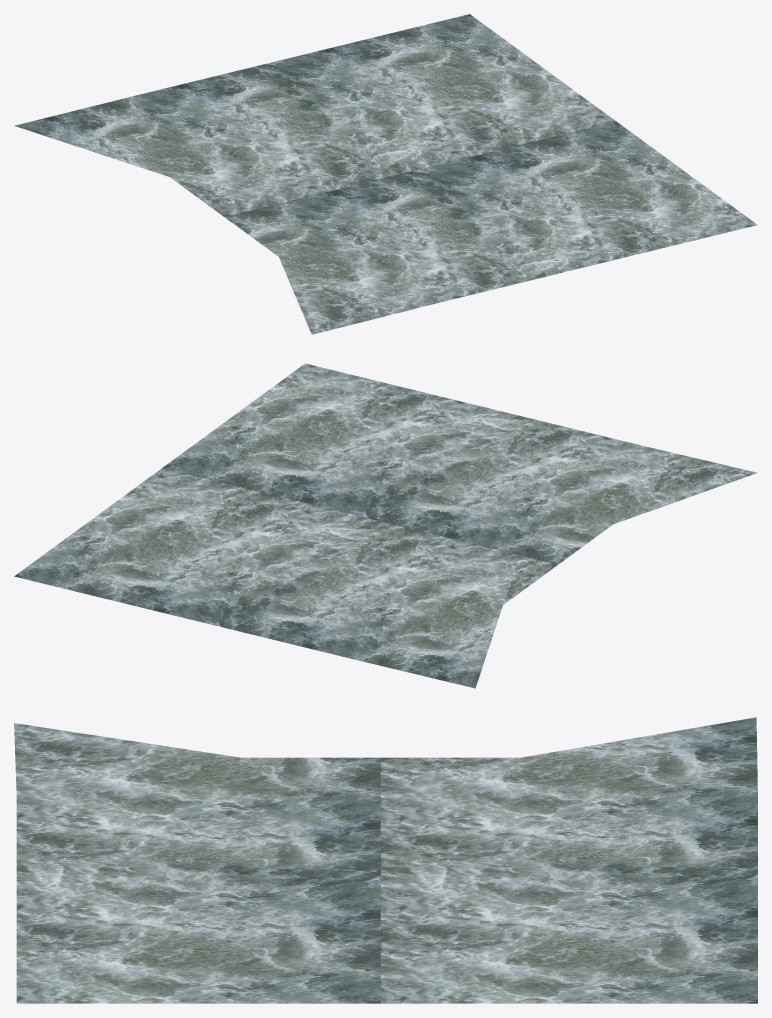
File: bg_lut_lutomb_water01_cwk.FBX
3 views of the same model, one above another, from view 1: azimuth 30°, elevation 25°; view 2: azimuth 150°, elevation 25°; view 3: azimuth 270°, elevation 25° (orthographic). The views are drawn at different scales.
Visible parts, largest first — view 1: bg_lut_lutomb_water01_cwk; view 2: bg_lut_lutomb_water01_cwk; view 3: bg_lut_lutomb_water01_cwk.
Part boxes in pixels (<box>): bg_lut_lutomb_water01_cwk: <box>14,14,757,334</box>; bg_lut_lutomb_water01_cwk: <box>14,363,757,688</box>; bg_lut_lutomb_water01_cwk: <box>14,717,757,1003</box>.
Size of the model in its own units: 2032 by 1.37e-13 by 2231.
